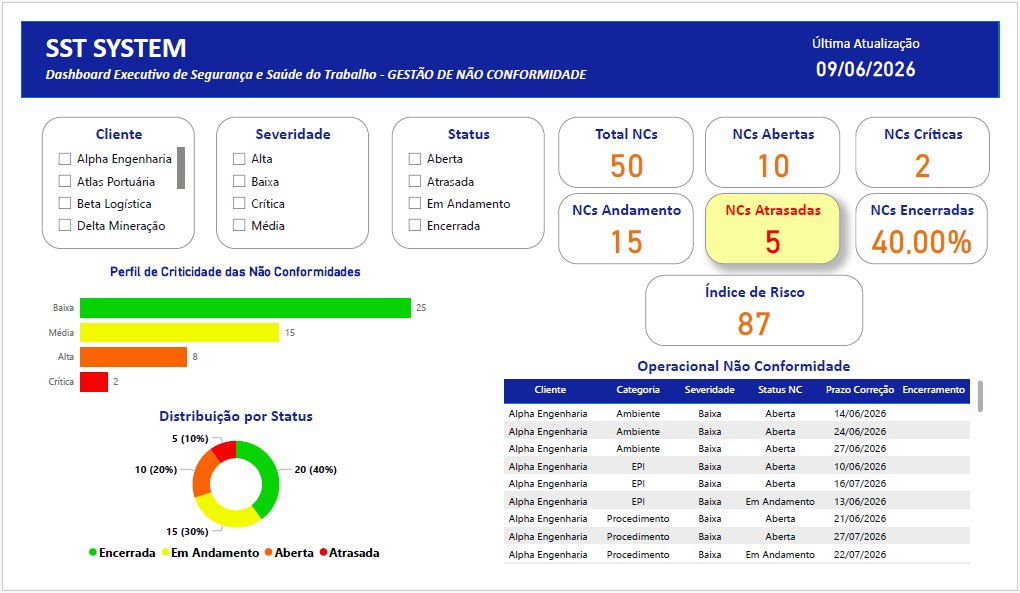

This screenshot's page, from the dashboard's own definition file:
{"tool":"powerbi","page":{"name":"Gestão de Não Conformidade","canvas":[1280,720],"ordinal":4},"visuals":[{"type":"shape","box":[0,0,1280,100],"z":0},{"type":"card","title":"Última Atualização","fields":{"Values":["Medidas.Última Atualização"]},"box":[944.3,17.1,322.9,65.7],"z":1000},{"type":"textbox","box":[27.1,5.7,852.9,87.1],"z":2000},{"type":"slicer","title":"Cliente","fields":{"Values":["public vw_nao_conformidades.nome_fantasia"]},"box":[26.7,125,200,173.3],"z":3000},{"type":"slicer","title":"Severidade","fields":{"Values":["public vw_nao_conformidades.severidade"]},"box":[255,125,200,173.3],"z":4000},{"type":"slicer","title":"Status","fields":{"Values":["public vw_nao_conformidades.status_nc"]},"box":[485,125,200,173.3],"z":5000},{"type":"card","title":"Total NCs","fields":{"Values":["Medidas.Total NCs"]},"box":[703.3,125,176.7,93.3],"z":6000},{"type":"card","title":"NCs Abertas","fields":{"Values":["Medidas.NCs Abertas"]},"box":[895,125,176.7,93.3],"z":7000},{"type":"card","title":"NCs Andamento","fields":{"Values":["Medidas.NCs Em Andamento"]},"box":[703.3,225,176.7,93.3],"z":8000},{"type":"card","title":"NCs Atrasadas","fields":{"Values":["Medidas.NCs Atrasadas"]},"box":[895,225,176.7,93.3],"z":9000},{"type":"card","title":"NCs Críticas","fields":{"Values":["Medidas.NCs Críticas"]},"box":[1091.7,125,176.7,93.3],"z":10000},{"type":"card","title":"NCs Encerradas","fields":{"Values":["Medidas.% NCs Encerradas"]},"box":[1091.7,225,173.3,93.3],"z":11000},{"type":"barChart","title":"Perfil de Criticidade das Não Conformidades","fields":{"Category":["public vw_nao_conformidades.severidade"],"Y":["Medidas.Qtd NCs"]},"box":[26.7,318.3,508.3,185],"z":12000},{"type":"donutChart","title":"Distribuição por Status","fields":{"Y":["Medidas.Qtd NCs"],"Category":["public vw_nao_conformidades.status_nc"]},"box":[26.7,503.3,508.3,211.7],"z":13000},{"type":"tableEx","title":"Operacional Não Conformidade","fields":{"Values":["public vw_nao_conformidades.nome_fantasia","public vw_nao_conformidades.categoria","public vw_nao_conformidades.severidade","public vw_nao_conformidades.status_nc","public vw_nao_conformidades.prazo_correcao","public vw_nao_conformidades.data_encerramento"]},"box":[626.7,438.3,638.3,276.7],"z":14000},{"type":"card","title":"Índice de Risco","fields":{"Values":["Medidas.Índice de Risco"]},"box":[816.7,331.7,285,93.3],"z":15000}]}

Visuals, with their boxes on the page's 1280x720 design canvas (x1, y1, x2, y2). These are canvas units, not pixel positions in the 1020x593 screenshot, which may show the page scaled, cropped or inside an application window:
shape: locate(0, 0, 1280, 100)
"Última Atualização" card: locate(944, 17, 1267, 83)
textbox: locate(27, 6, 880, 93)
"Cliente" slicer: locate(27, 125, 227, 298)
"Severidade" slicer: locate(255, 125, 455, 298)
"Status" slicer: locate(485, 125, 685, 298)
"Total NCs" card: locate(703, 125, 880, 218)
"NCs Abertas" card: locate(895, 125, 1072, 218)
"NCs Andamento" card: locate(703, 225, 880, 318)
"NCs Atrasadas" card: locate(895, 225, 1072, 318)
"NCs Críticas" card: locate(1092, 125, 1268, 218)
"NCs Encerradas" card: locate(1092, 225, 1265, 318)
"Perfil de Criticidade das Não Conformidades" barChart: locate(27, 318, 535, 503)
"Distribuição por Status" donutChart: locate(27, 503, 535, 715)
"Operacional Não Conformidade" tableEx: locate(627, 438, 1265, 715)
"Índice de Risco" card: locate(817, 332, 1102, 425)
